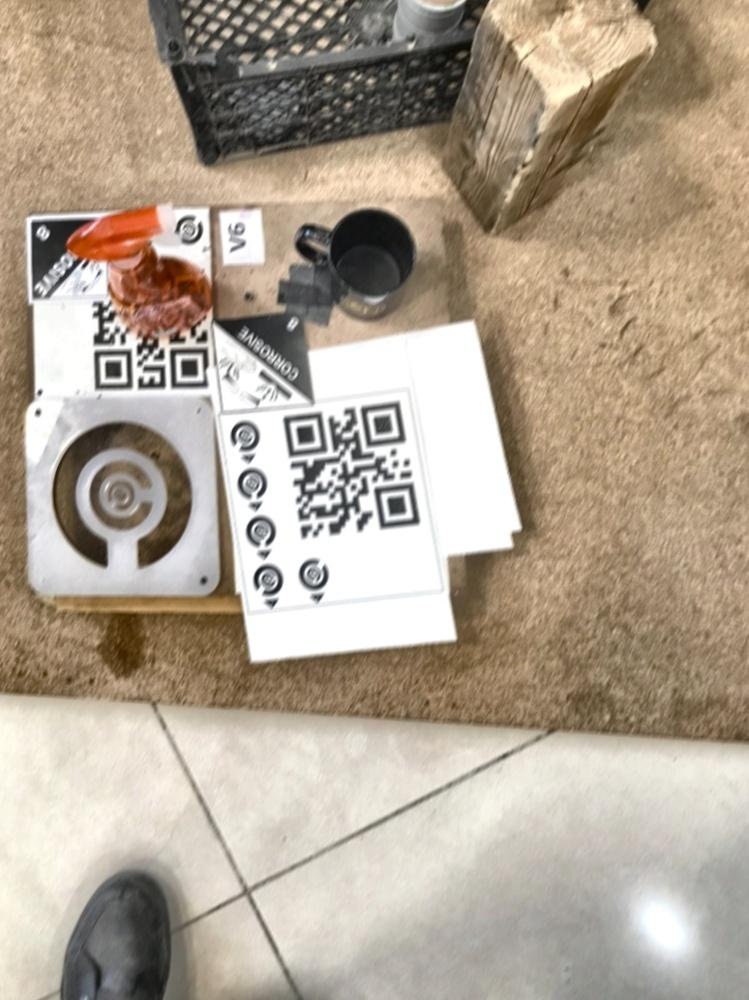corrosive: (207, 311, 318, 418), (25, 212, 113, 303)
